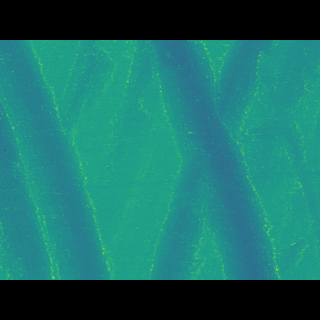Loch: (134, 70, 283, 250), (0, 69, 113, 250)
